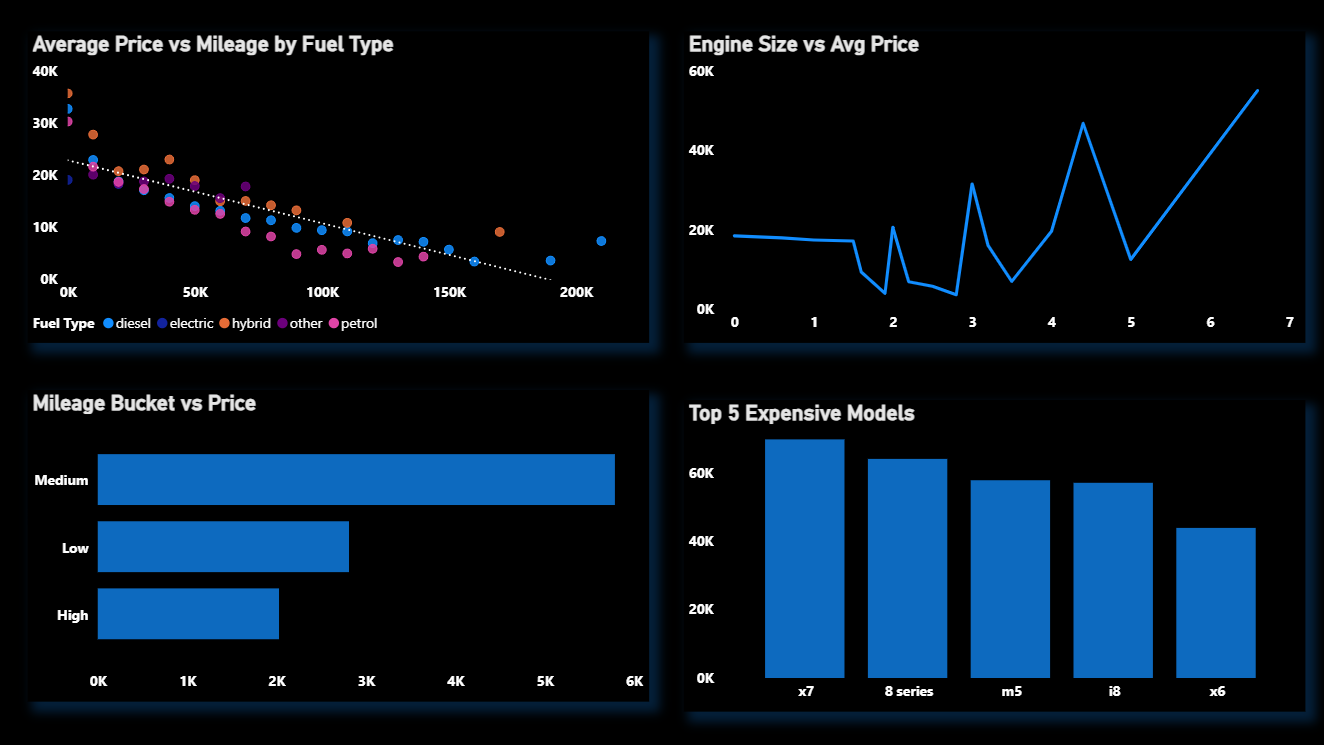

Layout of this report page (visuals, bound fields, positions):
{"tool":"powerbi","page":{"name":"Page 2","canvas":[1280,720],"ordinal":1},"visuals":[{"type":"scatterChart","title":"Average Price vs Mileage by Fuel Type","fields":{"X":["bmw_clean.Mileage Band"],"Series":["bmw_clean.Fuel Type"],"Y":["bmw_clean.Average Price"]},"box":[26.5,30.2,599.6,300.4],"z":0},{"type":"clusteredBarChart","title":"Mileage Bucket vs Price","fields":{"Y":["CountNonNull(bmw_clean.mileage_bucket)"],"Category":["bmw_clean.price_category"]},"box":[26.5,376.4,599.6,300.4],"z":1000},{"type":"clusteredColumnChart","title":"Top 5 Expensive Models","fields":{"Category":["bmw_clean.model"],"Y":["bmw_clean.Avg Price by Model"]},"box":[660.4,386,599.7,300.5],"z":2000},{"type":"lineChart","title":"Engine Size vs Avg Price","fields":{"Category":["bmw_clean.engineSize"],"Y":["bmw_clean.Average Price"]},"box":[659.9,30.2,599.6,300.4],"z":3000}]}

Visuals, with their boxes in screenshot pixels (x1, y1, x2, y2), scaled from the page's 1280x720 canvas onto the 1324x745 screenshot:
"Average Price vs Mileage by Fuel Type" scatterChart: detection(27, 31, 648, 342)
"Mileage Bucket vs Price" clusteredBarChart: detection(27, 389, 648, 700)
"Top 5 Expensive Models" clusteredColumnChart: detection(683, 399, 1303, 710)
"Engine Size vs Avg Price" lineChart: detection(683, 31, 1303, 342)
